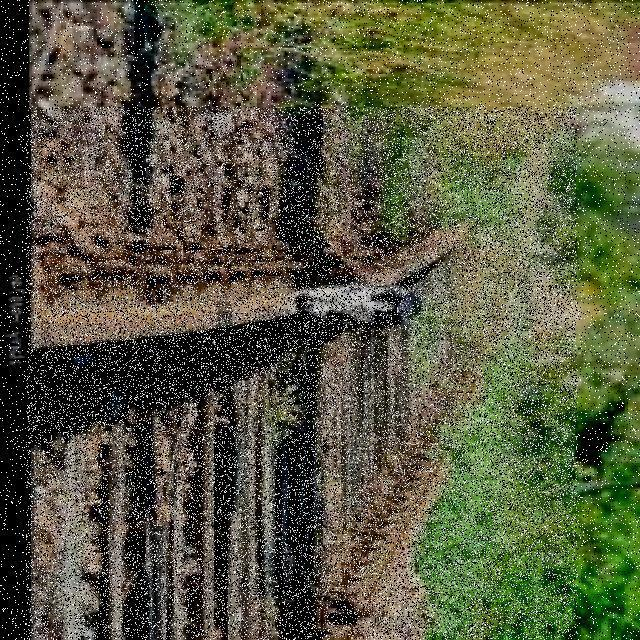danger: (285, 263, 424, 337)
rail: (26, 108, 577, 639)
